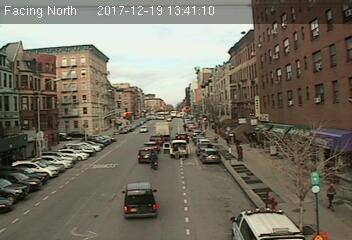car: (121, 181, 160, 216), (136, 147, 157, 165), (199, 148, 220, 164)
police: (230, 208, 307, 240)
truck: (169, 140, 188, 158)
